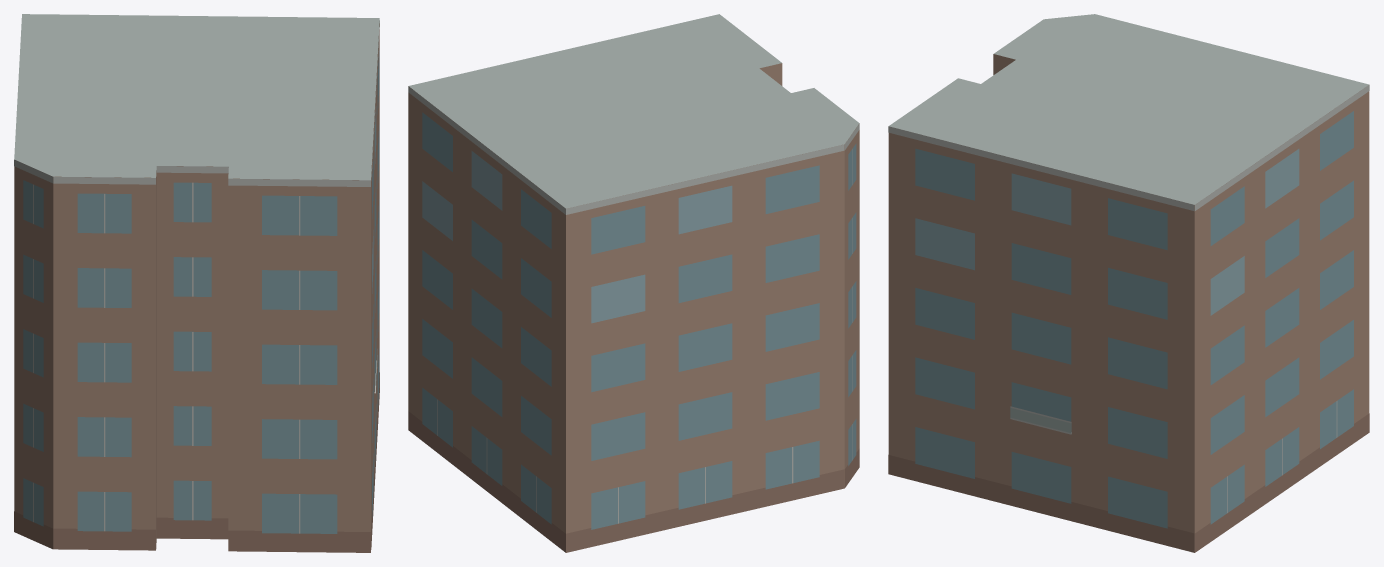
The model's file is survey-upis-32744277.glb.
3 views of the same model, side by side, from view 1: azimuth 30°, elevation 25°; view 2: azimuth 150°, elevation 25°; view 3: azimuth 270°, elevation 25° (orthographic). The views are drawn at different scales.
Visible parts, largest first — view 1: survey-upis-32744277.tmp; view 2: survey-upis-32744277.tmp; view 3: survey-upis-32744277.tmp.
Boxes of the visible parts, x1,y1,x2,y2 form: survey-upis-32744277.tmp: [14, 14, 379, 552]; survey-upis-32744277.tmp: [408, 14, 859, 552]; survey-upis-32744277.tmp: [888, 14, 1369, 552].
Bounding box in the file's own units: 15.66 × 13.3 × 16.67.
